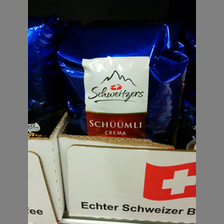coffee: (60, 20, 186, 148)
